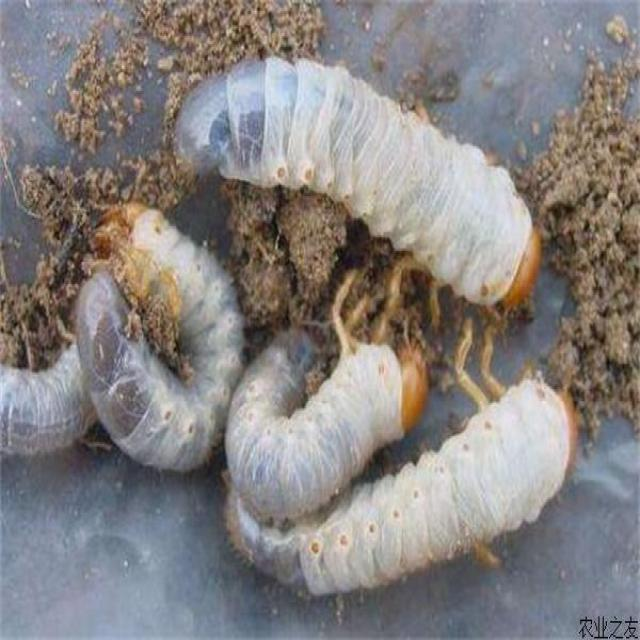Grub-Adult-: (172, 52, 548, 322), (225, 258, 434, 523), (77, 194, 249, 478)
